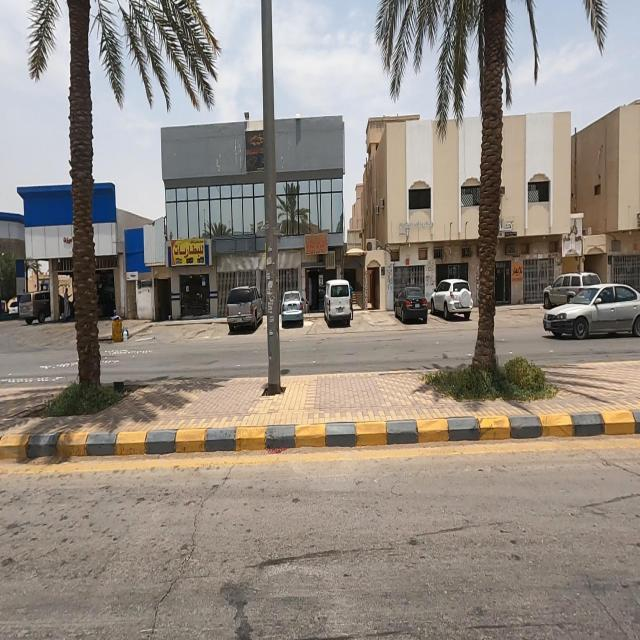debris: (285, 211, 343, 276), (98, 287, 136, 345), (108, 313, 146, 351)
